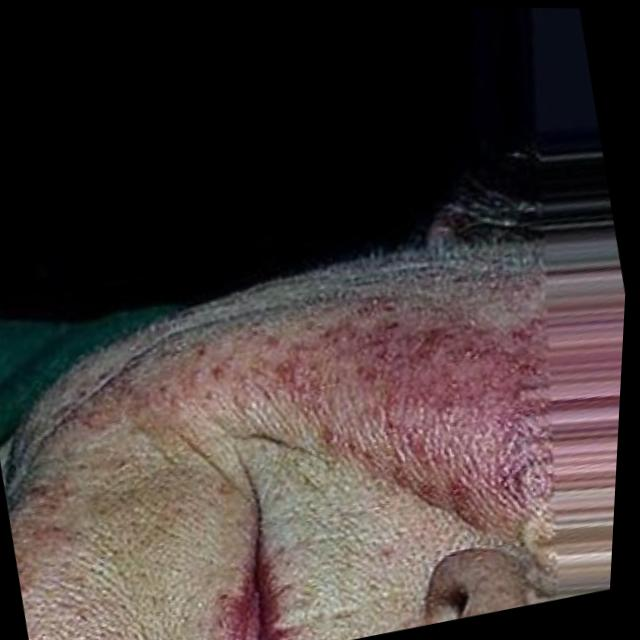Rosacea: (304, 297, 548, 521)
